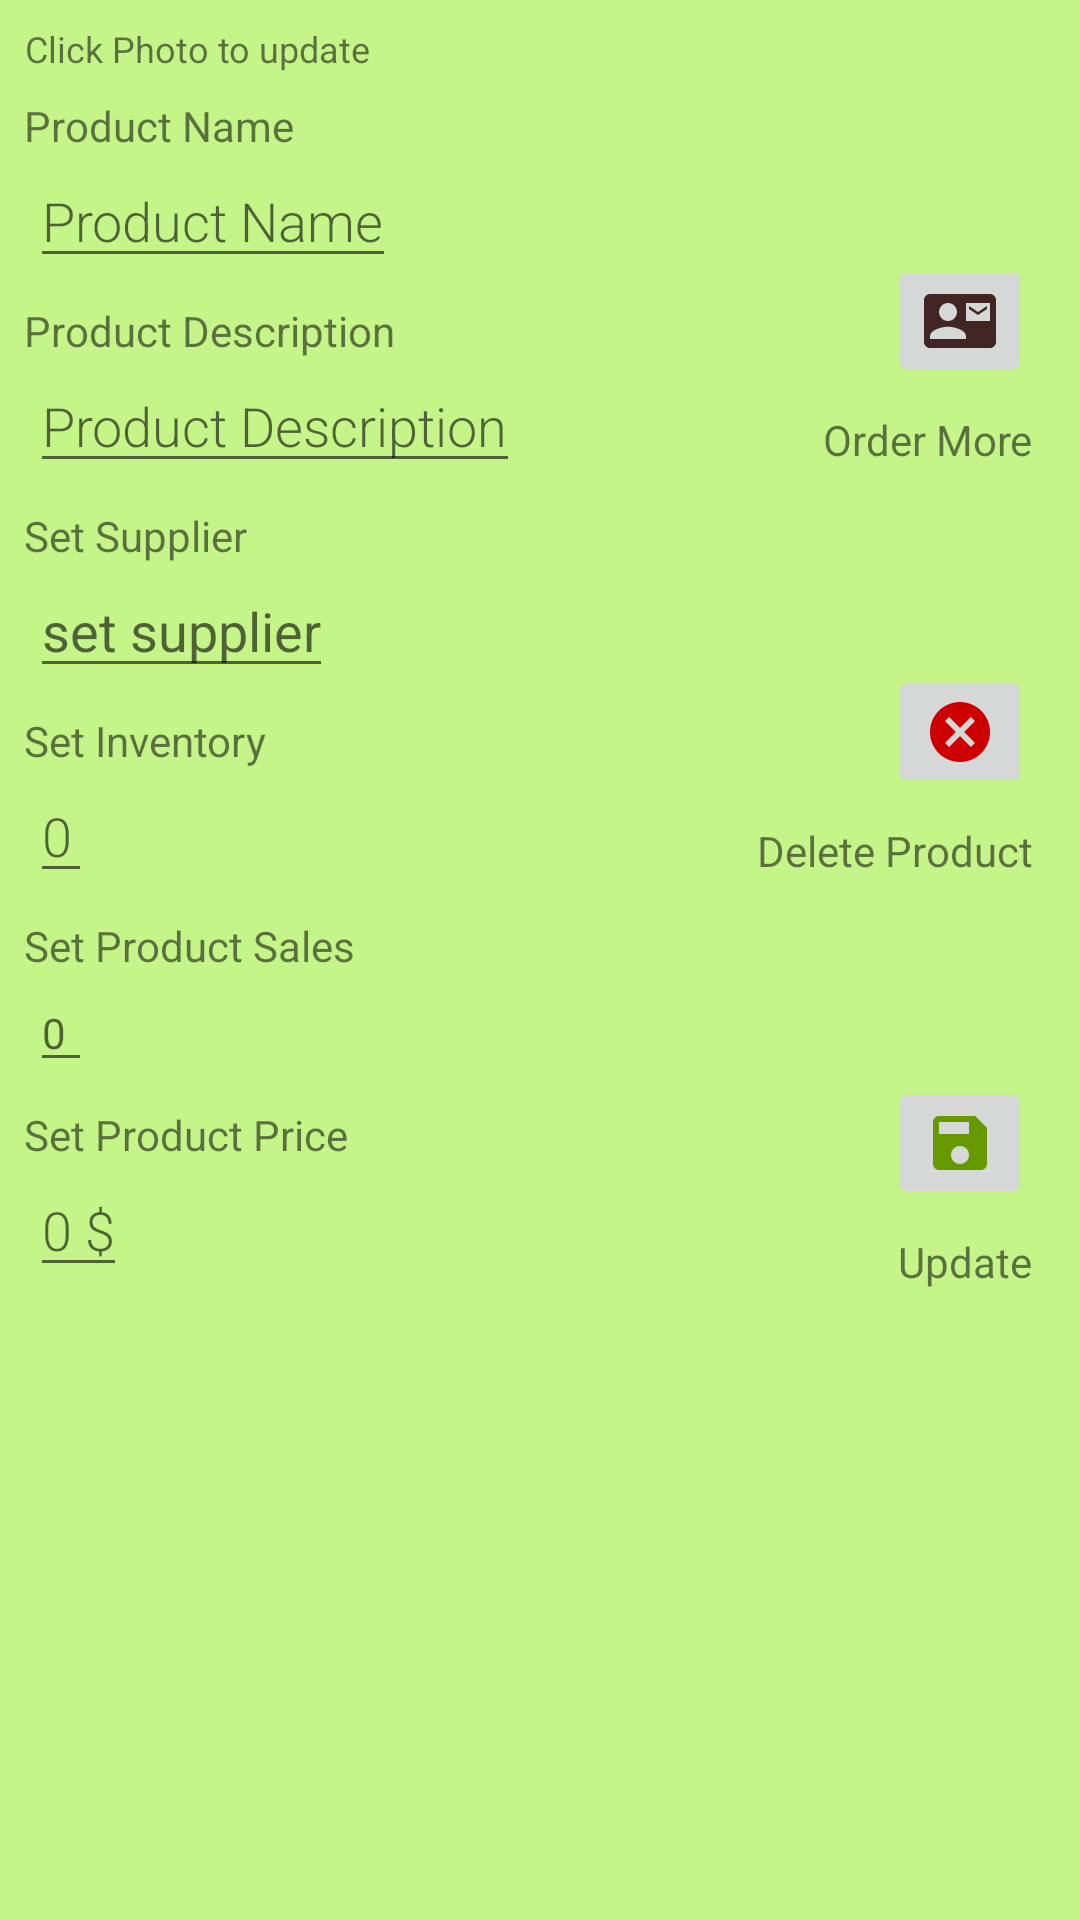

Icons on this 1080px x 1920px Android screen, each with its box as [x1,y1,x2,y2]:
contact supplier: [900,273,1020,369]
